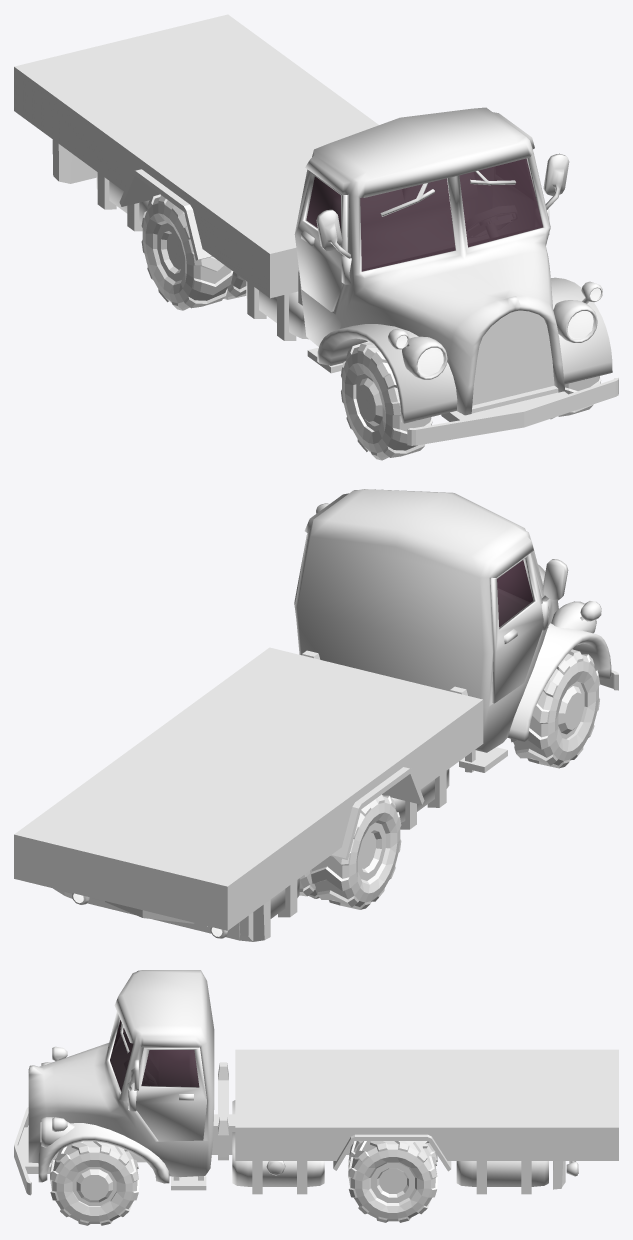
The model's file is Truck_NormalTrailler_001.glb.
3 renders of one model, top to bottom at view 1: azimuth 30°, elevation 25°; view 2: azimuth 150°, elevation 25°; view 3: azimuth 270°, elevation 25°, orthographic. The views are drawn at different scales.
Parts seen in each view (by area): view 1: Truck_body, Truck_NormalTrailler.001, Truck_Engine, Truck_Wheel_Back, Truck_Wheel_Front.right, Truck_Door.right, TruckModule_OilTank, Truck_WheelCover, TruckModule_Laggage, Truck_Bumper; view 2: Truck_NormalTrailler.001, Truck_body, Truck_Wheel_Back, Truck_Wheel_Front.right, Truck_Door.right, Truck_Bumper, Truck_WheelCover, TruckModule_OilTank, TruckModule_Laggage; view 3: Truck_NormalTrailler.001, Truck_body, Truck_Wheel_Back, Truck_Wheel_Front.left, Truck_Door.left, TruckModule_OilTank, TruckModule_Laggage, Truck_Chassy_Short, Truck_Engine, Truck_WheelCover, Truck_Bumper.
Part boxes in pixels (box(x1,y1,x2,y2)): Truck_body: box(299, 107, 612, 423); Truck_NormalTrailler.001: box(14, 14, 378, 298); Truck_Engine: box(407, 310, 618, 445); Truck_Wheel_Back: box(141, 194, 246, 310); Truck_Wheel_Front.right: box(341, 341, 432, 460); Truck_Door.right: box(294, 169, 347, 311); TruckModule_OilTank: box(246, 281, 308, 340); Truck_WheelCover: box(119, 169, 212, 260); TruckModule_Laggage: box(96, 172, 149, 231); Truck_Bumper: box(52, 139, 96, 183); Truck_NormalTrailler.001: box(14, 647, 483, 930); Truck_body: box(295, 489, 611, 772); Truck_Wheel_Back: box(299, 794, 401, 909); Truck_Wheel_Front.right: box(510, 649, 599, 768); Truck_Door.right: box(490, 553, 543, 703); Truck_Bumper: box(53, 888, 270, 941); Truck_WheelCover: box(330, 767, 424, 859); TruckModule_OilTank: box(382, 769, 449, 829); TruckModule_Laggage: box(270, 878, 299, 918); Truck_NormalTrailler.001: box(235, 1049, 618, 1160); Truck_body: box(28, 970, 214, 1190); Truck_Wheel_Back: box(348, 1141, 437, 1222); Truck_Wheel_Front.left: box(50, 1141, 139, 1225); Truck_Door.left: box(134, 1047, 206, 1141); TruckModule_OilTank: box(232, 1100, 324, 1194); TruckModule_Laggage: box(456, 1161, 548, 1194); Truck_Chassy_Short: box(212, 1062, 350, 1160); Truck_Engine: box(14, 1107, 145, 1195); Truck_WheelCover: box(333, 1134, 451, 1171); Truck_Bumper: box(553, 1161, 578, 1189).
Size of the model in its own units: 5.06 by 5.11 by 14.16.
